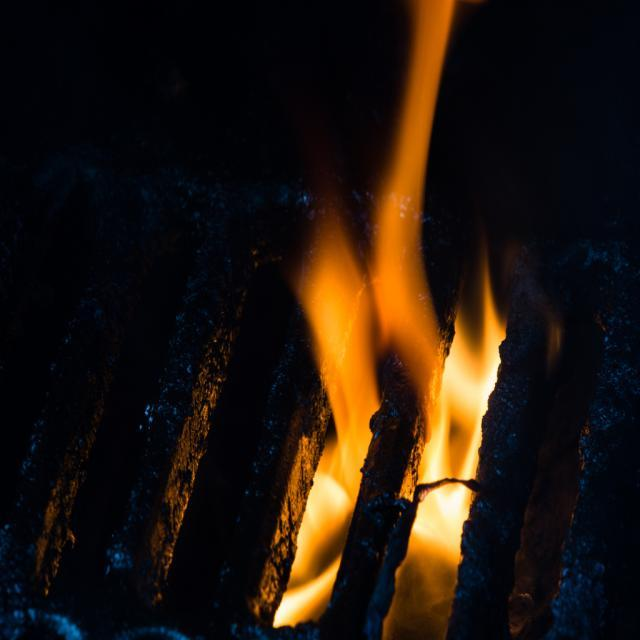Fire: (316, 240, 429, 394), (404, 11, 444, 197), (314, 444, 362, 588), (428, 417, 475, 540), (446, 324, 497, 404)
